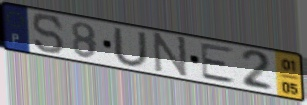2: (239, 49, 276, 92)
8: (70, 21, 98, 60)
E: (199, 42, 238, 86)
N: (153, 31, 190, 81)
S: (31, 13, 67, 56)
U: (111, 26, 151, 70)
